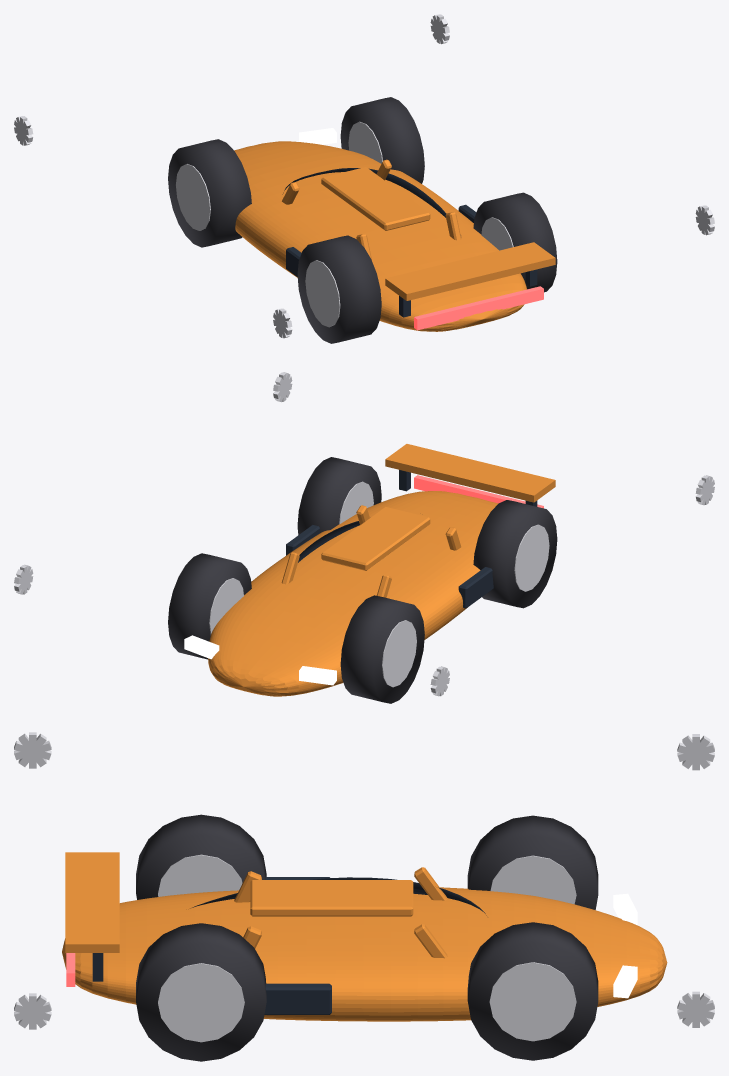
Rendered from car.glb.
The picture shows the model from 3 angles, top to bottom: view 1: azimuth 30°, elevation 25°; view 2: azimuth 150°, elevation 25°; view 3: azimuth 270°, elevation 25°; orthographic projection. The views are drawn at different scales.
Parts seen in each view (by area): view 1: Body, Wheel_RL, Wheel_FL, Wheel_FR, Wheel_RR; view 2: Body, Wheel_FL, Wheel_RL, Wheel_FR, Wheel_RR; view 3: Body, Wheel_FR, Wheel_RR, Wheel_FL, Wheel_RL.
Part boxes in pixels (x1,y1,x2,y2): Body: (234,128,555,331); Wheel_RL: (273,235,381,343); Wheel_FL: (14,116,251,247); Wheel_FR: (340,14,449,183); Wheel_RR: (473,192,714,292); Body: (184,444,555,696); Wheel_FL: (340,595,449,703); Wheel_RL: (473,475,714,608); Wheel_FR: (14,553,251,659); Wheel_RR: (273,372,381,534); Body: (62,852,667,1021); Wheel_FR: (467,922,714,1060); Wheel_RR: (14,923,266,1061); Wheel_FL: (467,734,714,909); Wheel_RL: (14,732,266,899).
Bounding box in the file's own units: 5.74 × 1.35 × 6.44.
